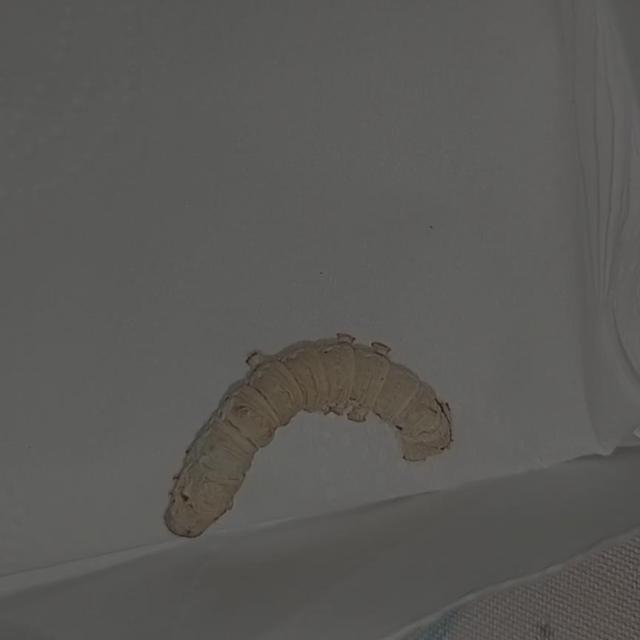Healthy: (112, 294, 506, 562)
